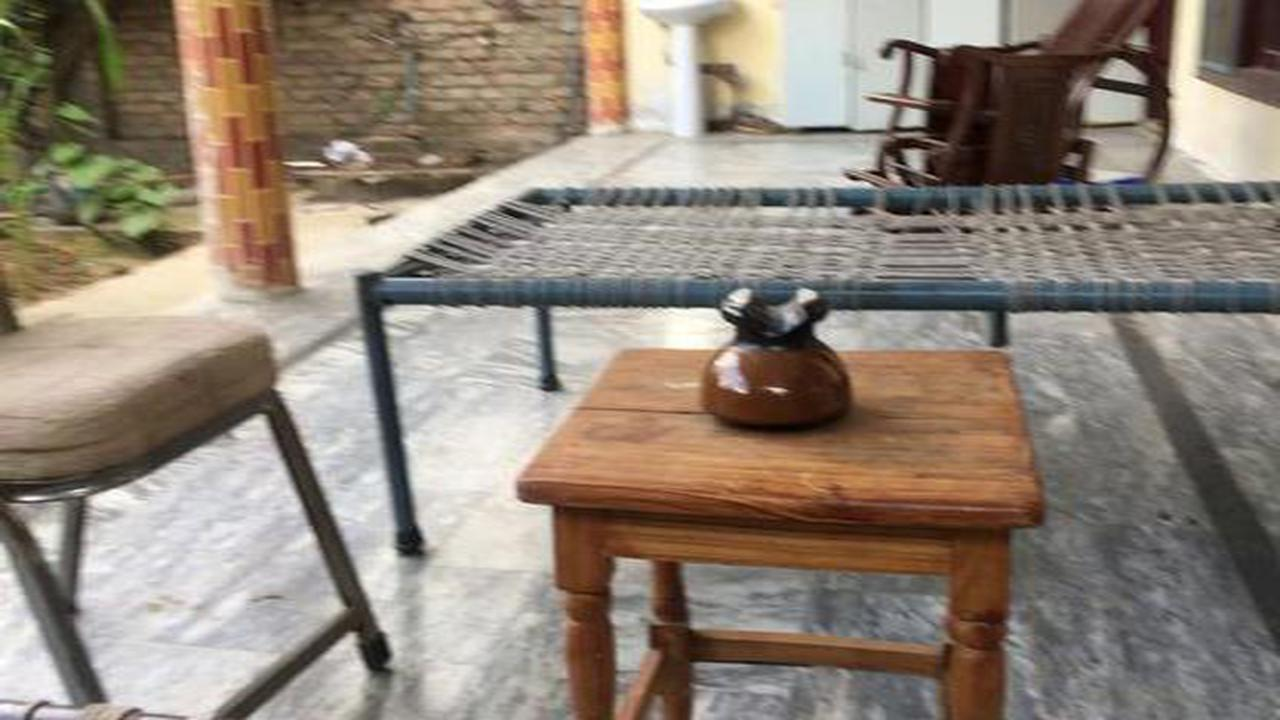insulator_pin: (684, 272, 874, 437)
